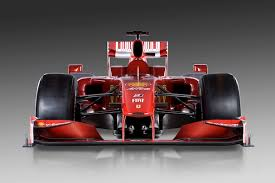FormulaOneCar: (21, 27, 258, 154)
